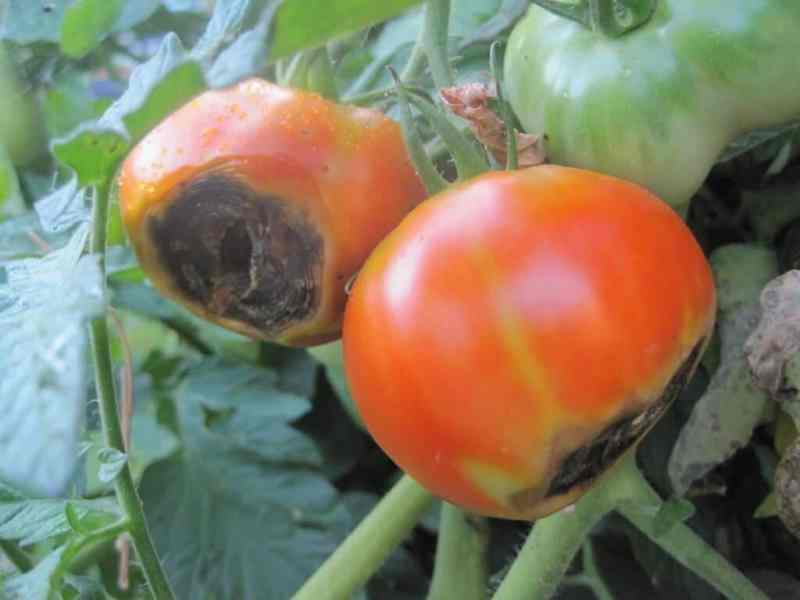blossom_rotw: (127, 137, 345, 347), (504, 301, 713, 507)
